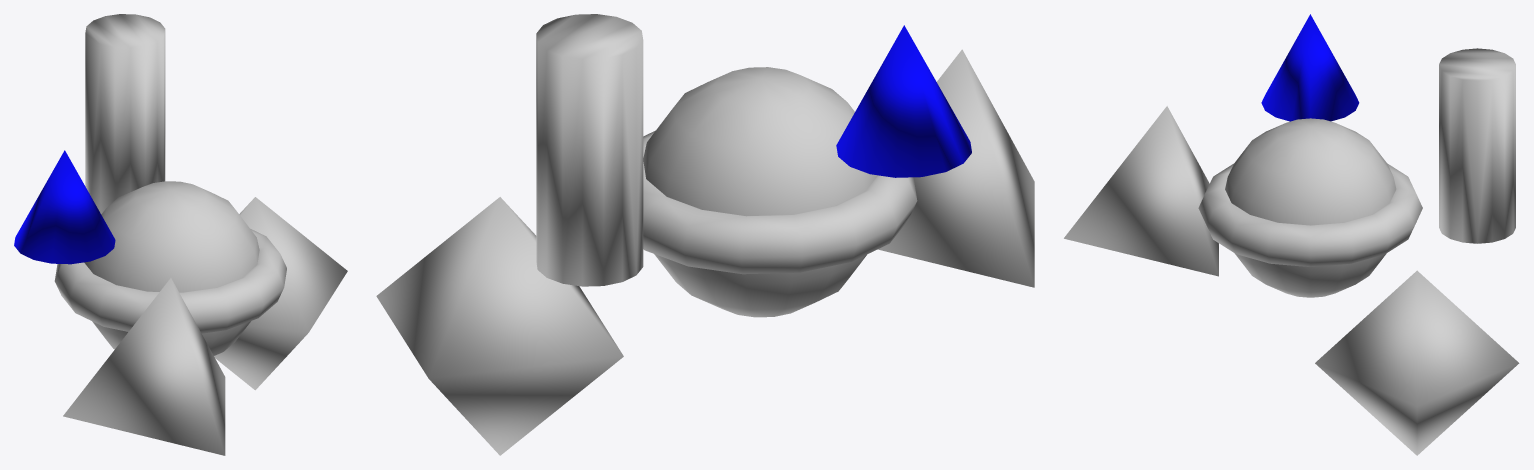
The model's file is big_blender.obj.
3 views of the same model, side by side, from view 1: azimuth 30°, elevation 25°; view 2: azimuth 150°, elevation 25°; view 3: azimuth 270°, elevation 25° (orthographic). The views are drawn at different scales.
Parts seen in each view (by area): view 1: tetrahedron5, sphere6, Cylinder4, octahedron6, Torus3, cone7; view 2: octahedron6, sphere6, Cylinder4, tetrahedron5, Torus3, cone7; view 3: octahedron6, sphere6, Cylinder4, tetrahedron5, Torus3, cone7.
Part boxes in pixels (x1,y1,x2,y2): tetrahedron5: (63,278,225,455); sphere6: (84,181,259,355); Cylinder4: (85,14,165,214); octahedron6: (214,197,347,390); Torus3: (54,229,286,333); cone7: (14,150,115,264); octahedron6: (376,197,623,455); sphere6: (643,67,877,317); Cylinder4: (536,14,643,286); tetrahedron5: (877,49,1034,287); Torus3: (643,130,917,274); cone7: (836,25,971,177); octahedron6: (1315,270,1519,455); sphere6: (1225,118,1396,297); Cylinder4: (1439,48,1515,243); tetrahedron5: (1064,106,1218,276); Torus3: (1198,163,1422,266); cone7: (1261,14,1359,121).
Size of the model in its own units: 4.79 by 4.24 by 5.08.
